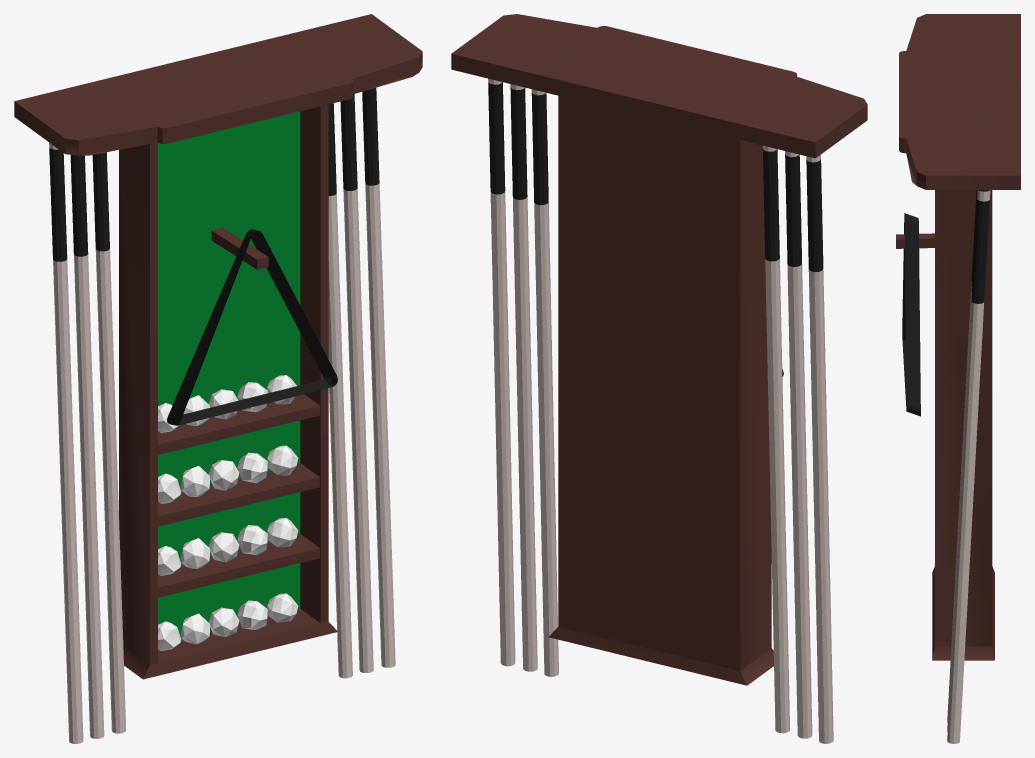
Rendered from entertainment_018.glb.
The picture shows the model from 3 angles, left to right: view 1: azimuth 30°, elevation 25°; view 2: azimuth 150°, elevation 25°; view 3: azimuth 270°, elevation 25°; orthographic projection. The views are drawn at different scales.
Parts seen in each view (by area): view 1: entertainment_018; view 2: entertainment_018; view 3: entertainment_018.
Part boxes in pixels (bbox=[...]): entertainment_018: bbox=[14, 14, 422, 743]; entertainment_018: bbox=[451, 14, 867, 743]; entertainment_018: bbox=[896, 14, 1020, 743].
Bounding box in the file's own units: 0.9874 × 1.64 × 0.3223.
1 material, 1 textured.
